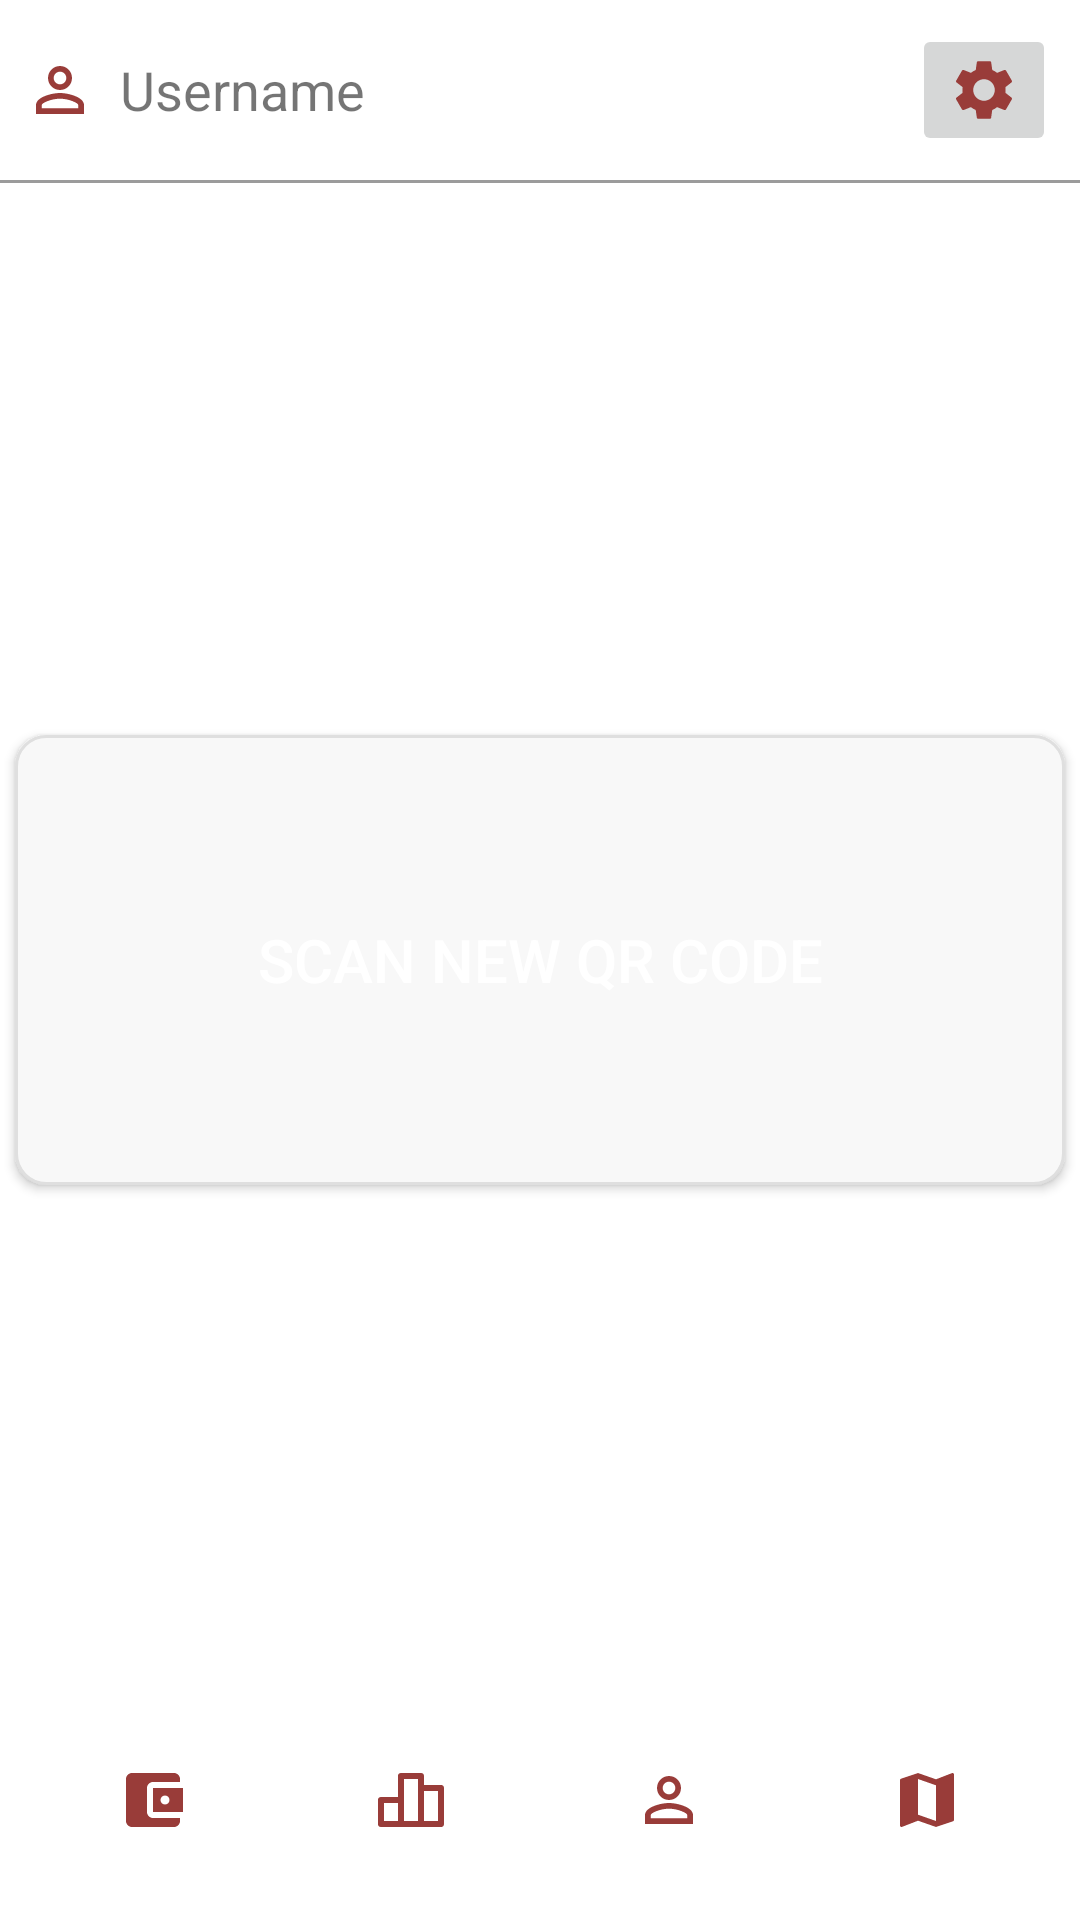

Icons on this 1080px x 1920px Android screen, each with its box as (x1, y1, x2, y2):
leaderboard: (378, 1773, 444, 1827)
map: (900, 1773, 954, 1827)
settings: (924, 42, 1044, 138)
wallet: (126, 1773, 183, 1827)
